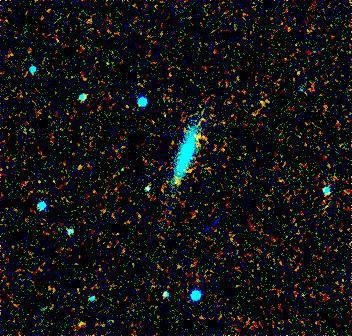star: (163, 253, 193, 283)
